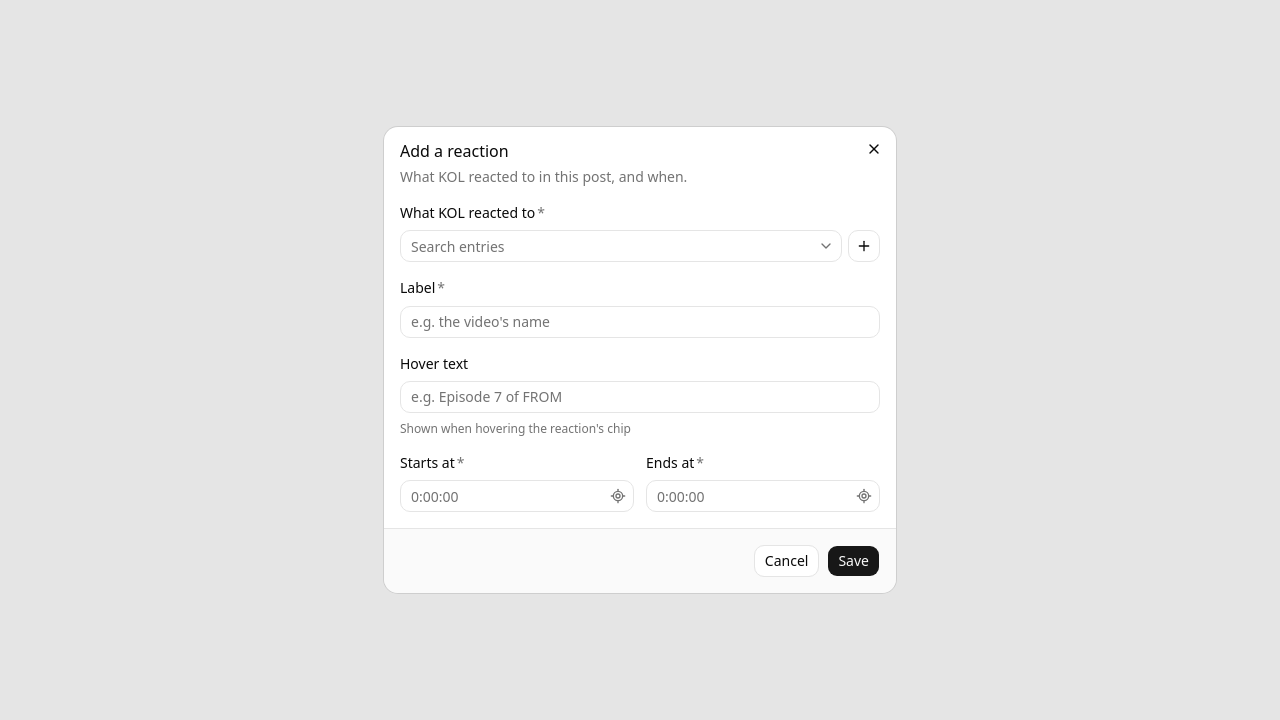
Test: moderation dialogs › picks a reaction's entry from the list
Step 1. Click the button "Save" → (854, 561), box [827,545,880,577]
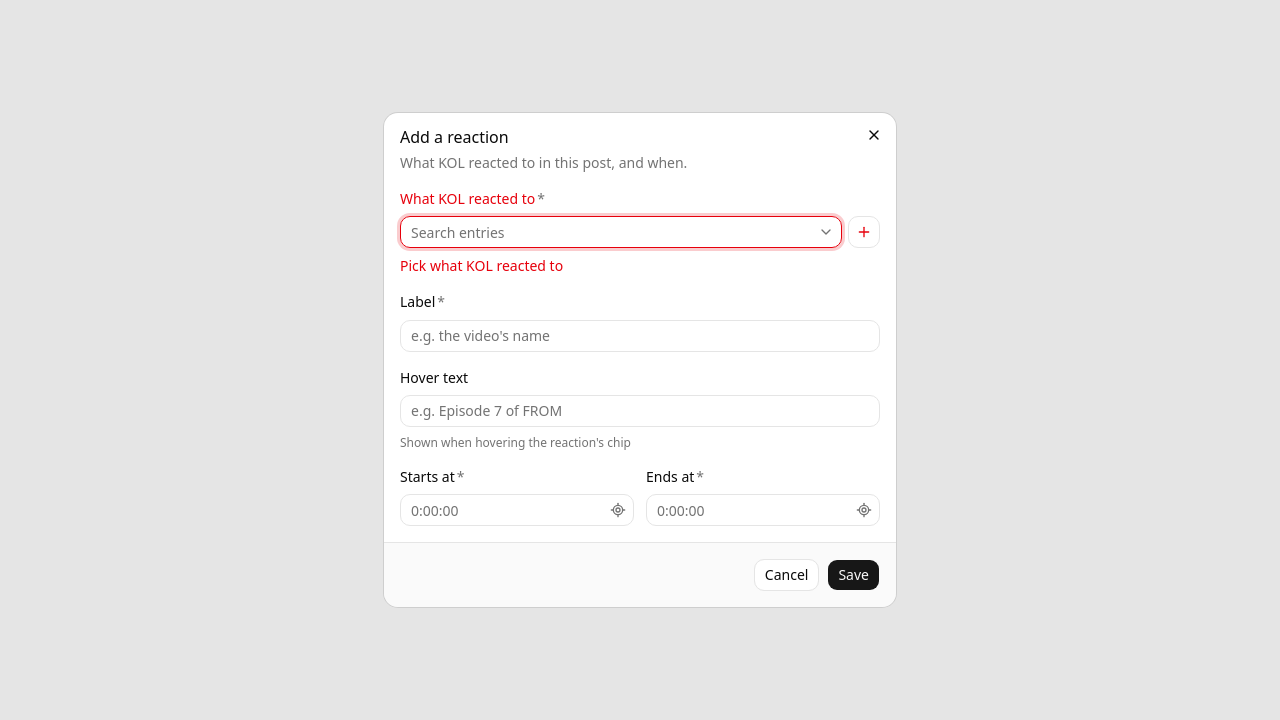
Expected: the text "Pick what KOL reacted to" is shown, [400,256,563,275]
Step 2. Type "Frie" into the dropdown labelled "What KOL reacted to *" → (607, 232), box [401,216,814,248]
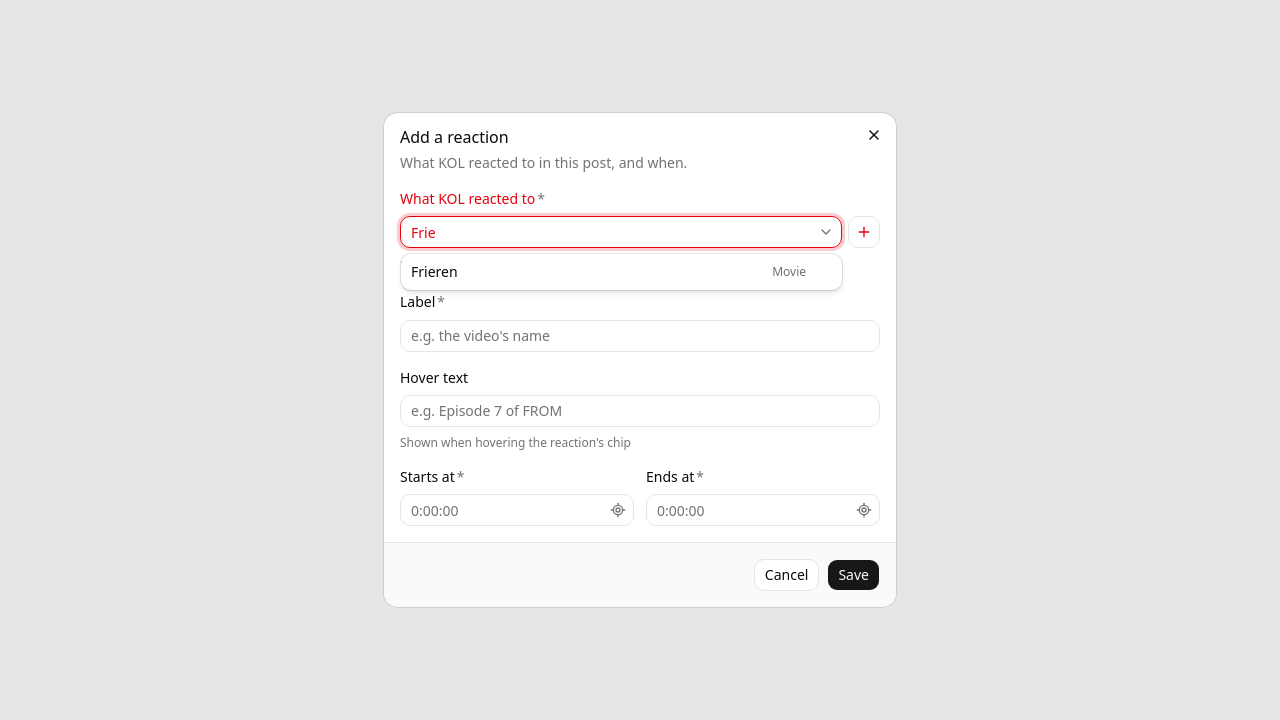
Expected: the option "Frieren Movie" is shown, [405,258,838,286]
Step 3. Press ArrowDown in the dropdown labelled "What KOL reacted to *", box [401,216,814,248]
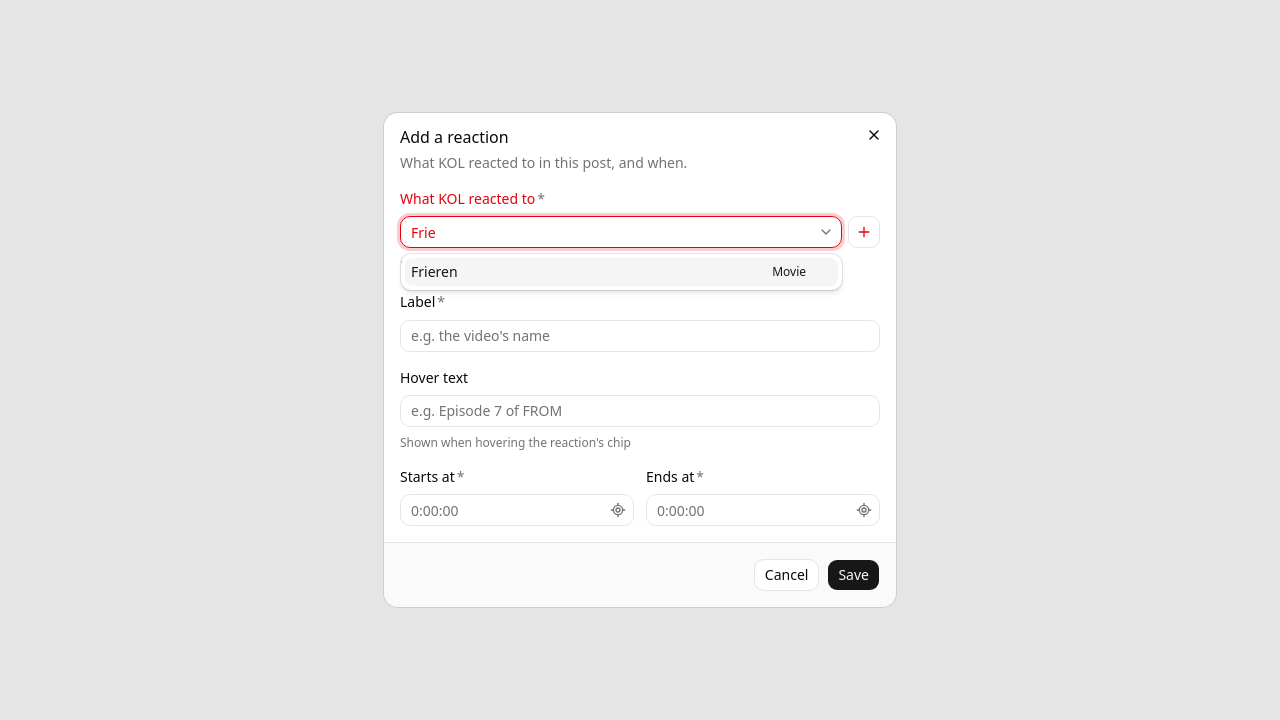
Step 4. Press Enter in the dropdown labelled "What KOL reacted to *", box [401,216,814,248]
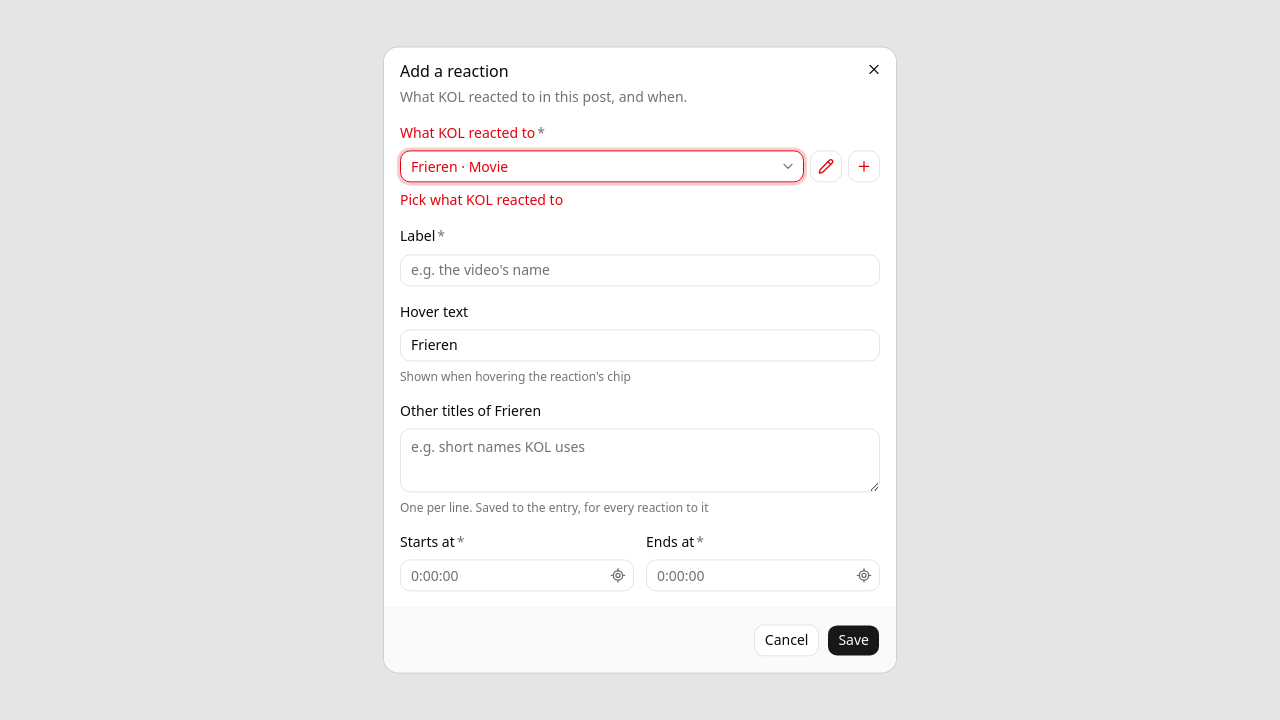
Expected: the dropdown labelled "What KOL reacted to *" holds "Frieren · Movie", [401,151,776,183]
Expected: the button named "edit entry" is shown, [810,151,842,183]
